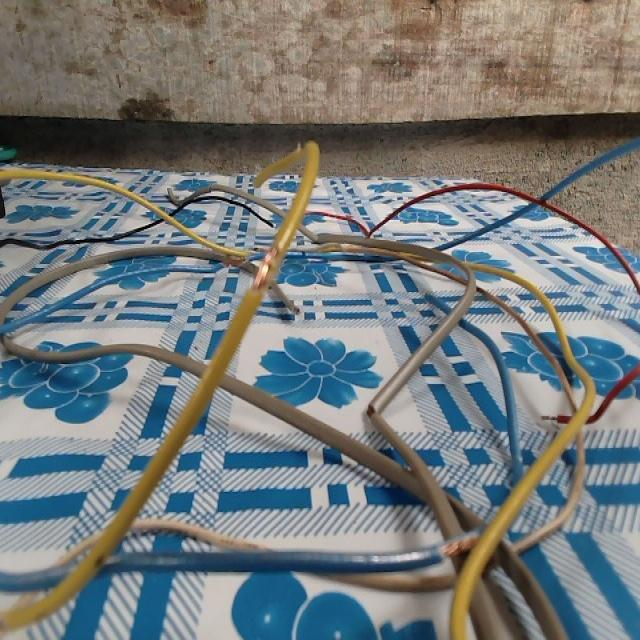-: (437, 528, 483, 563), (249, 240, 276, 297), (226, 248, 248, 265), (537, 411, 563, 425), (365, 396, 376, 419)
